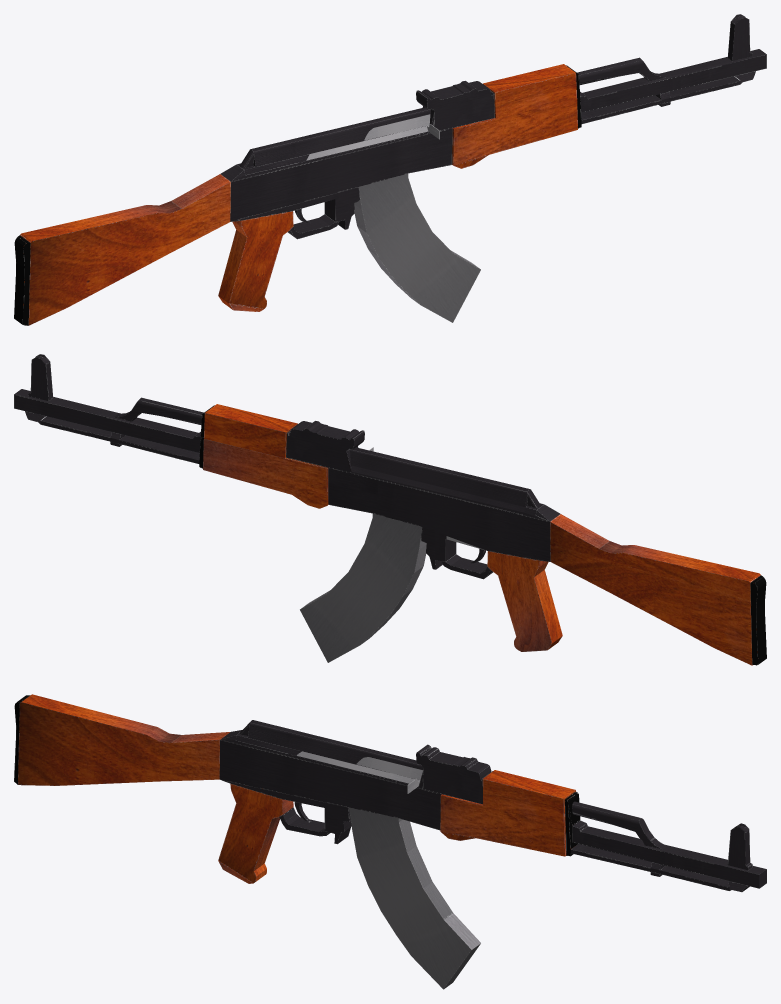
The model's file is oh hey, I guess I actually used the AK for something.fbx.
3 renders of one model, top to bottom at view 1: azimuth 30°, elevation 25°; view 2: azimuth 150°, elevation 25°; view 3: azimuth 330°, elevation 25°, orthographic.
Visible parts, largest first — view 1: Cube; view 2: Cube; view 3: Cube.
Boxes of the visible parts, x1=… form: Cube: x1=14, y1=14, x2=766, y2=325; Cube: x1=14, y1=354, x2=766, y2=665; Cube: x1=14, y1=694, x2=766, y2=989.
Bounding box in the file's own units: 759 × 226 × 39.53.
